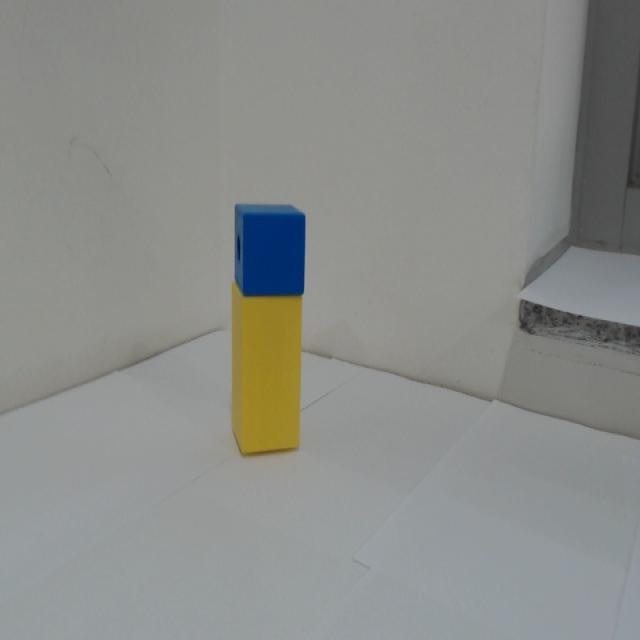cube: (233, 201, 307, 299)
